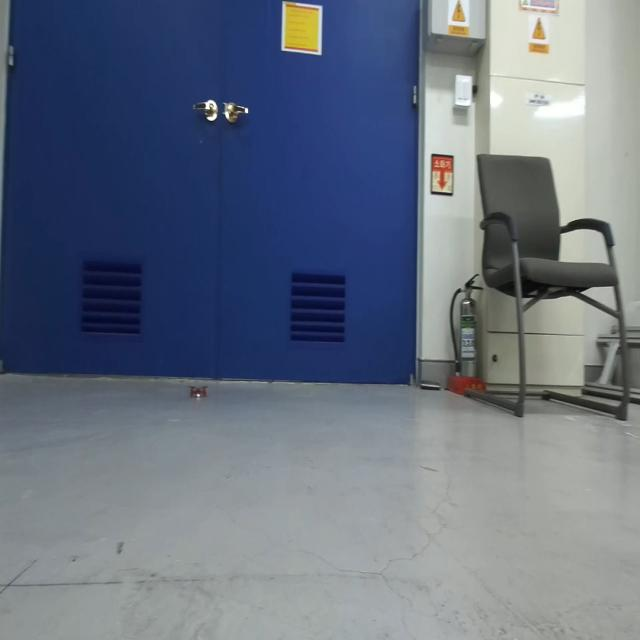crazyflie: (187, 380, 209, 402)
